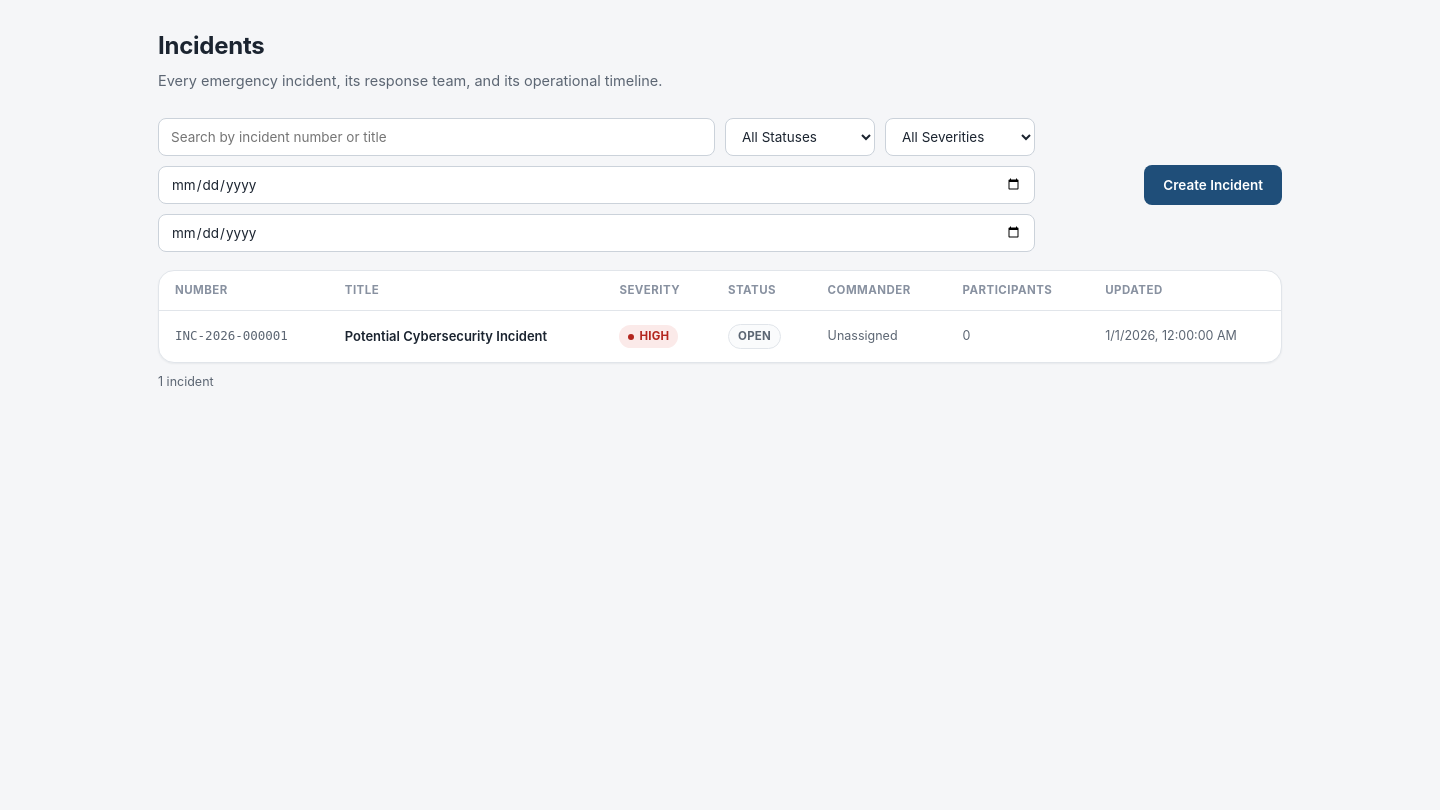
Test: IncidentsPage › Command Center tab › shows the aggregate communication summary and recent alerts
This screenshot has width=1440, height=810.
Click the text "Potential Cybersecurity Incident": {"x": 466, "y": 336} [329,310,603,362]
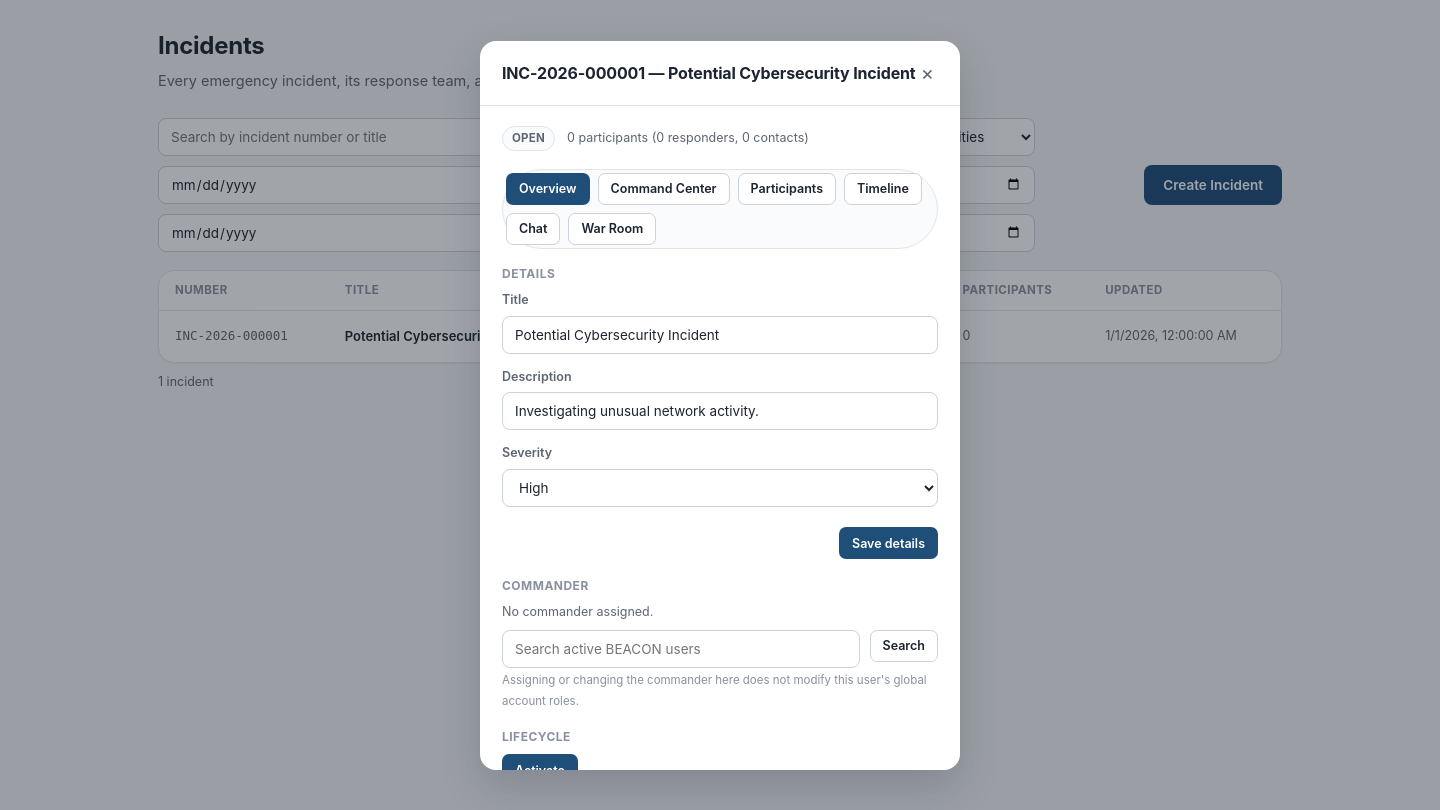
Click the button "Command Center": {"x": 664, "y": 189} [598,173,730,205]
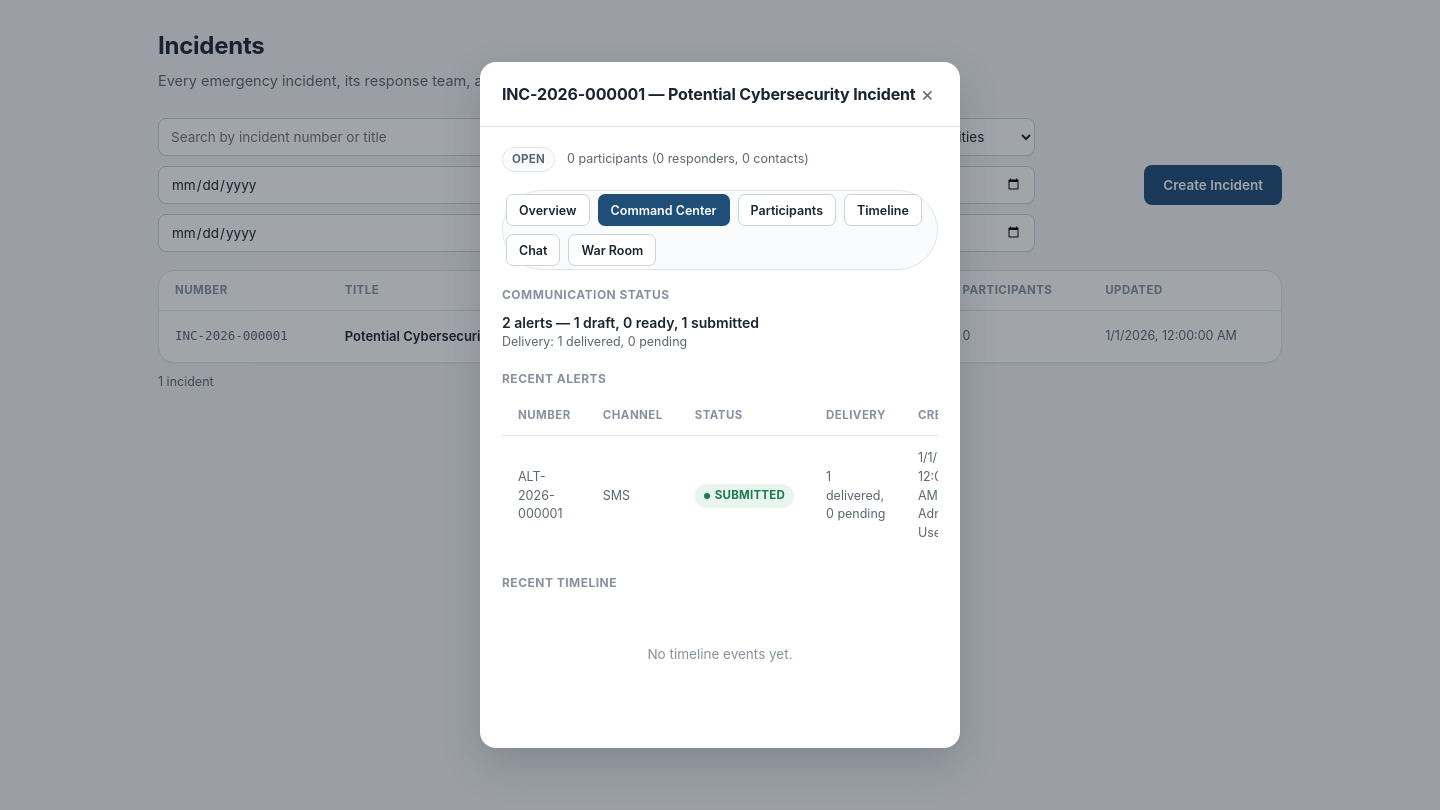
Expected: the text "2 alerts — 1 draft, 0 ready, 1 submitted" is shown, [502,314,759,331]
Expected: the text "ALT-2026-000001" is shown, [502,436,587,556]
